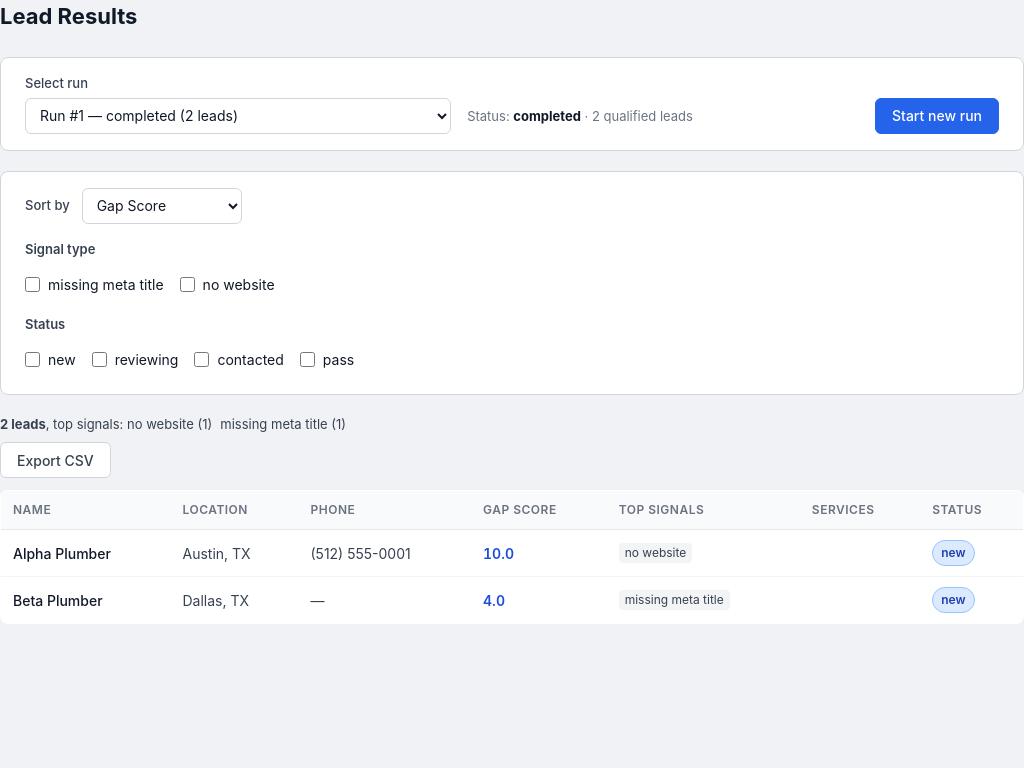
Test: LeadResults â€” detail panel opens on row click › detail panel has a website link that opens in a new tab
This screenshot has width=1024, height=768.
Step 1. Click the text "Beta Plumber" → (86, 600), box [0,577,170,624]
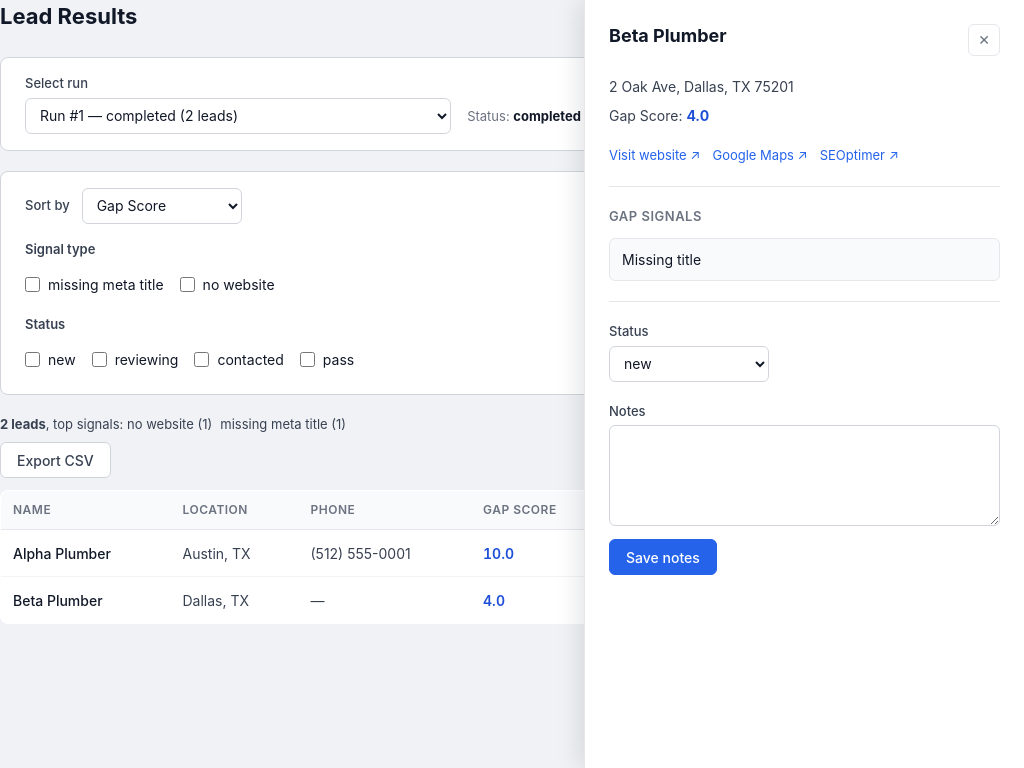
Expected: the link to "https://beta.example.com" is shown, [609,146,700,166]
